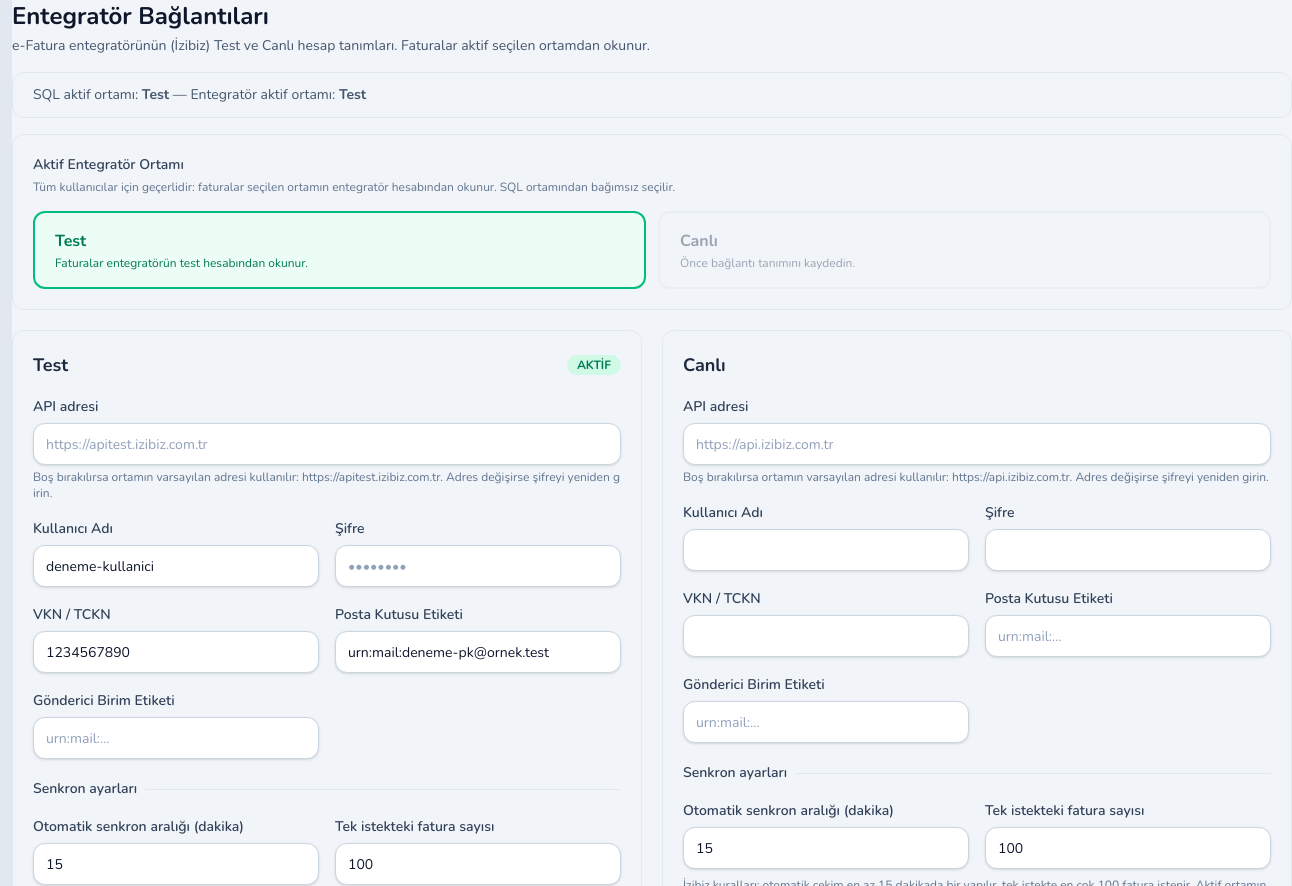
Test case: EntegratorBaglantilariPage › geçersiz VKN ile istek atmadan alan hatası gösterir
Expected: the 2nd field showing "deneme-kullanici" is shown, [33,545,319,587]
Step 1. Replace the text in the field with id "entegrator-test-vkn" with "12AB" → [176, 652], box [33,631,319,673]
(page scrolled)
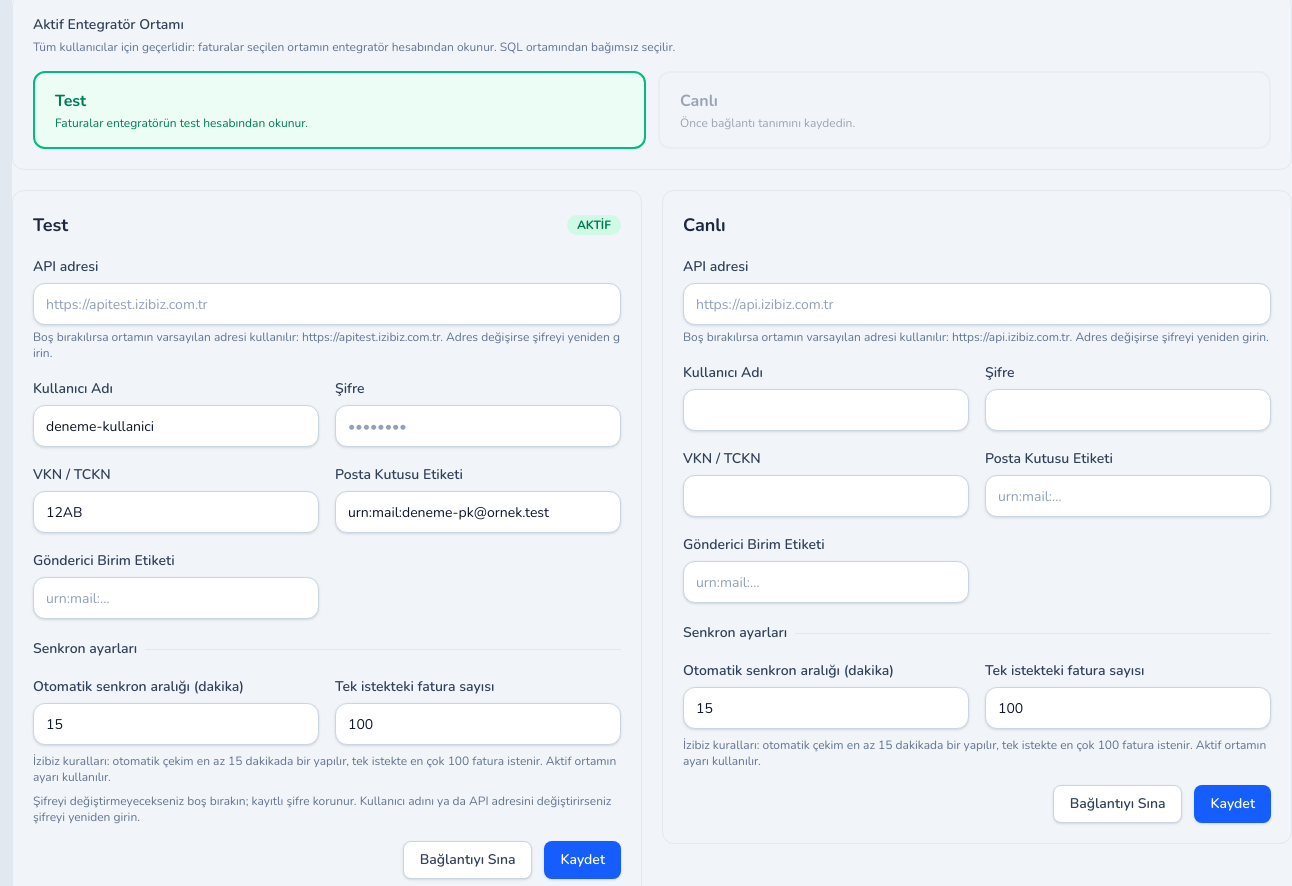
Step 2. Click the 2nd button "Kaydet" → [583, 860], box [544,841,621,879]
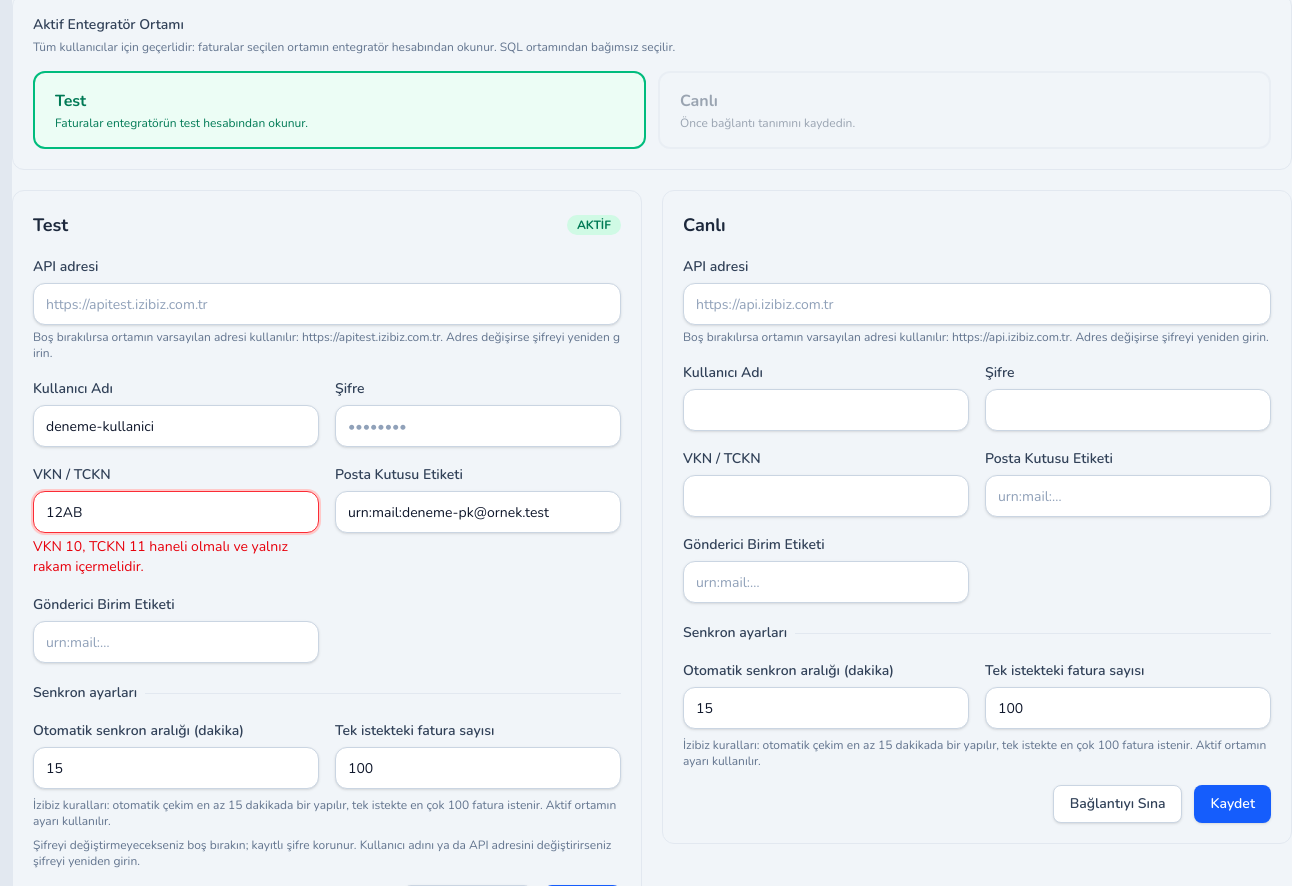
Expected: the text "VKN 10, TCKN 11 haneli olmalı ve yalnız rakam içermelidir." is shown, [33,537,319,577]
